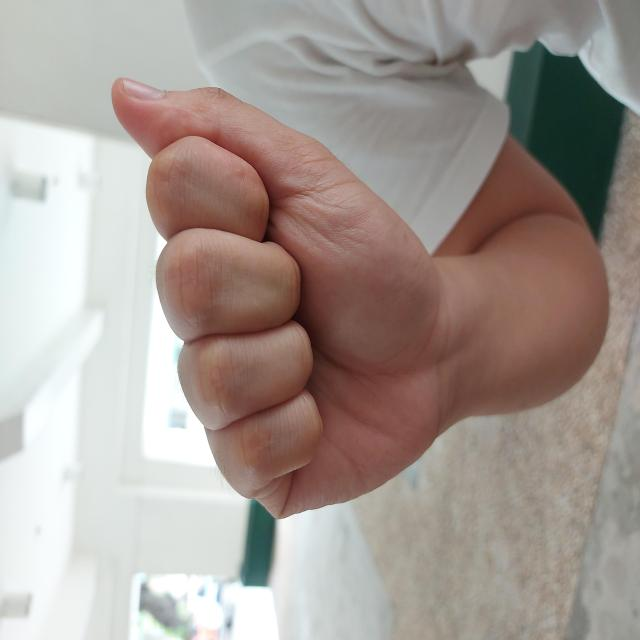A: (114, 106, 568, 445)
